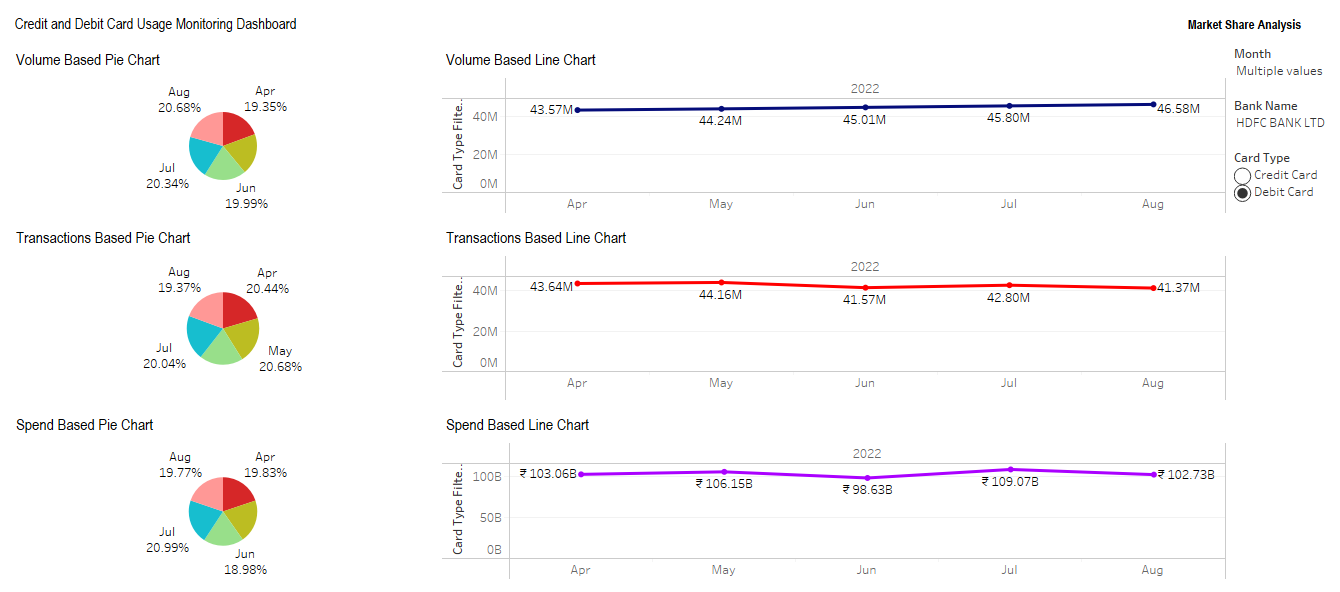

What the dashboard file says about the page in this screenshot:
{"tool":"tableau","page":{"name":"Credit and Debit Card Usage Monitoring Dashboard","canvas":[1000,1000],"units":"permille","ordinal":0},"visuals":[{"type":"text","box":[6.9,13.5,874,54.1]},{"type":"text","box":[880.9,13.5,112.2,54.1]},{"type":"worksheet","title":"Volume Based Pie Chart","mark":"Pie","box":[6.9,67.6,315.8,300.7]},{"type":"worksheet","title":"Volume Based Line Chart","mark":"Line","rows":["Calculation_210543327066386432"],"cols":["Year","Month"],"box":[322.7,67.6,582,300.7]},{"type":"filter","title":"Volume Based Pie Chart","param":"[federated.12tx3680js95tj16g58zu03pd9tj].[none:Month:nk]","box":[904.8,67.6,88.3,87.8]},{"type":"filter","title":"Volume Based Pie Chart","param":"[federated.12tx3680js95tj16g58zu03pd9tj].[none:Bank_Name:nk]","box":[904.8,155.4,88.3,87.8]},{"type":"parameter","param":"[Parameters].[Parameter 1]","box":[904.8,243.2,88.3,118.2]},{"type":"worksheet","title":"Transactions Based Pie Chart","mark":"Pie","box":[6.9,368.2,315.8,315.9]},{"type":"worksheet","title":"Transactions Based Line Chart","mark":"Line","rows":["Calculation_210543327066513409"],"cols":["Year","Month"],"box":[322.7,368.2,582,315.9]},{"type":"worksheet","title":"Spend Based Pie Chart","mark":"Pie","box":[6.9,684.1,315.8,302.4]},{"type":"worksheet","title":"Spend Based Line Chart","mark":"Line","rows":["Calculation_210543327066660866"],"cols":["Year","Month"],"box":[322.7,684.1,582,302.4]}]}

Visuals, with their boxes on the dashboard's canvas, which has no fixed pixel size, in thousandths of its width and height (x1, y1, x2, y2). These are canvas units, not pixel positions in the 1340x592 screenshot, which may show the page scaled, cropped or inside an application window:
text: bbox=[7, 14, 881, 68]
text: bbox=[881, 14, 993, 68]
"Volume Based Pie Chart" worksheet (Pie marks): bbox=[7, 68, 323, 368]
"Volume Based Line Chart" worksheet (Line marks): bbox=[323, 68, 905, 368]
"Volume Based Pie Chart" filter: bbox=[905, 68, 993, 155]
"Volume Based Pie Chart" filter: bbox=[905, 155, 993, 243]
parameter: bbox=[905, 243, 993, 361]
"Transactions Based Pie Chart" worksheet (Pie marks): bbox=[7, 368, 323, 684]
"Transactions Based Line Chart" worksheet (Line marks): bbox=[323, 368, 905, 684]
"Spend Based Pie Chart" worksheet (Pie marks): bbox=[7, 684, 323, 986]
"Spend Based Line Chart" worksheet (Line marks): bbox=[323, 684, 905, 986]
